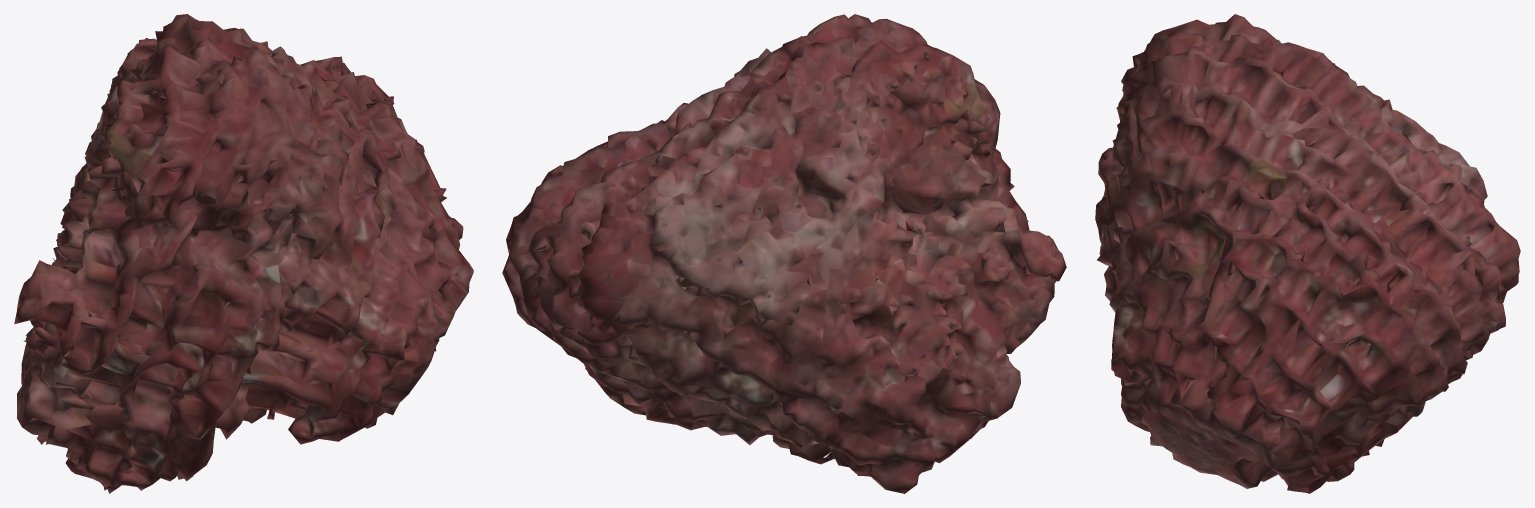
File: organpipe.glb
3 renders of one model, left to right at view 1: azimuth 30°, elevation 25°; view 2: azimuth 150°, elevation 25°; view 3: azimuth 270°, elevation 25°, orthographic. The views are drawn at different scales.
Visible parts, largest first — view 1: prop; view 2: prop; view 3: prop.
Boxes of the visible parts, left/top/right/bottom form: prop: left=14, top=14, right=473, bottom=493; prop: left=502, top=14, right=1066, bottom=493; prop: left=1095, top=14, right=1520, bottom=493.
Bounding box in the file's own units: 0.9977 × 0.8608 × 0.8029.
Materials: 1 (1 with a texture image).
